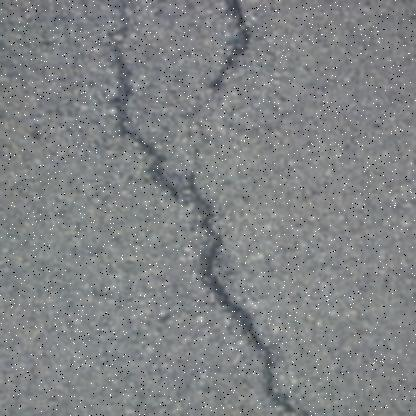Cracks: (95, 10, 317, 416), (206, 0, 266, 95)
